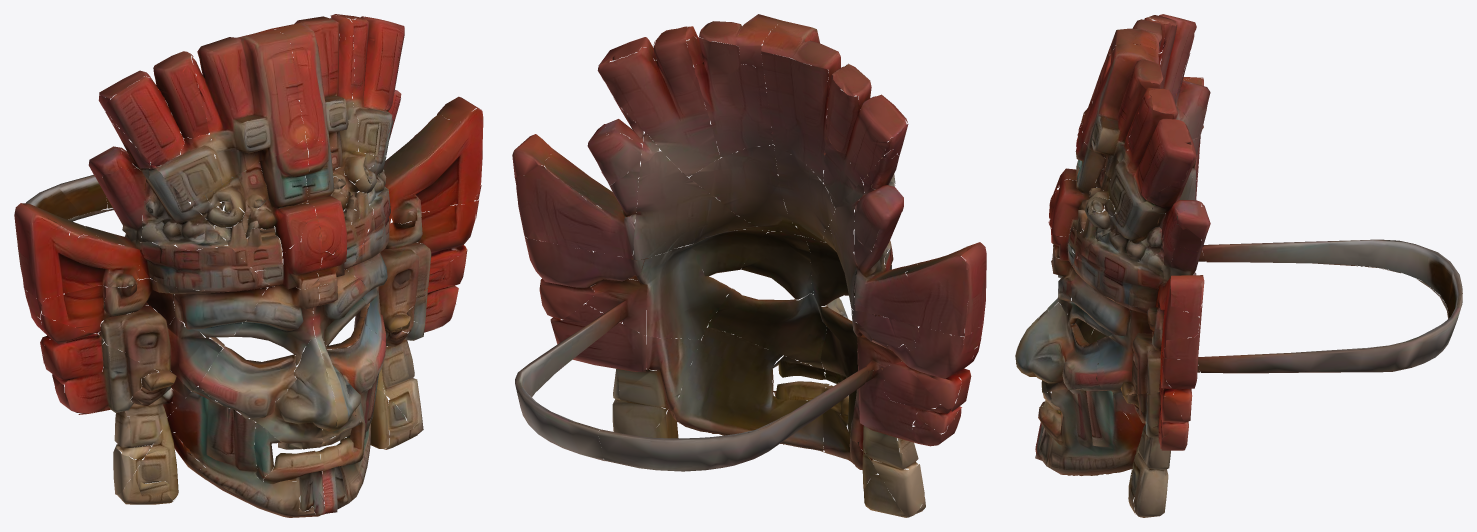
The model's file is mascara.glb.
3 renders of one model, left to right at view 1: azimuth 30°, elevation 25°; view 2: azimuth 150°, elevation 25°; view 3: azimuth 270°, elevation 25°, orthographic. The views are drawn at different scales.
Parts seen in each view (by area): view 1: tripo_node_1d7e262f-14ff-4265-aa6e-a72759af69fa; view 2: tripo_node_1d7e262f-14ff-4265-aa6e-a72759af69fa; view 3: tripo_node_1d7e262f-14ff-4265-aa6e-a72759af69fa.
Boxes of the visible parts, x1=… form: tripo_node_1d7e262f-14ff-4265-aa6e-a72759af69fa: x1=14, y1=14, x2=483, y2=517; tripo_node_1d7e262f-14ff-4265-aa6e-a72759af69fa: x1=512, y1=14, x2=986, y2=517; tripo_node_1d7e262f-14ff-4265-aa6e-a72759af69fa: x1=1015, y1=14, x2=1462, y2=517.
Size of the model in its own units: 1 by 0.9528 by 0.9184.
1 material, 1 textured.
